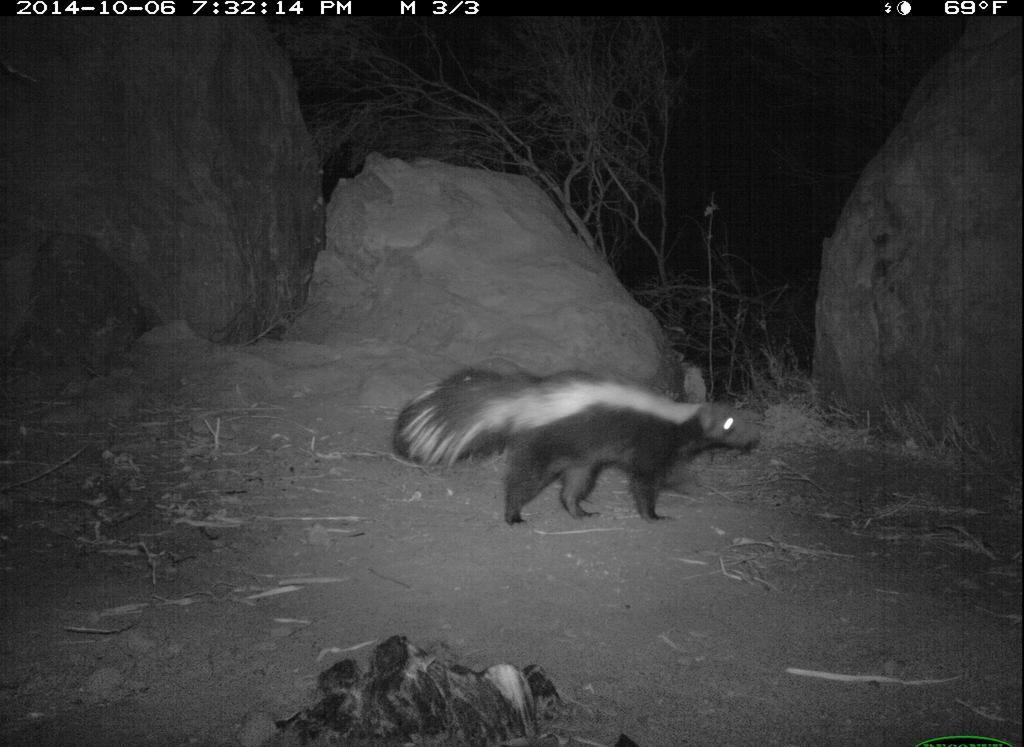skunk: (390, 359, 774, 537)
